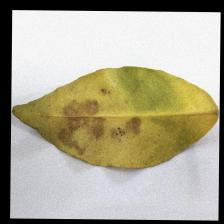canker: (53, 97, 151, 154)
